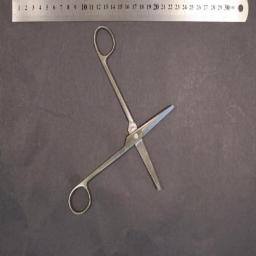Curved Mayo Scissors: (70, 25, 174, 217)
